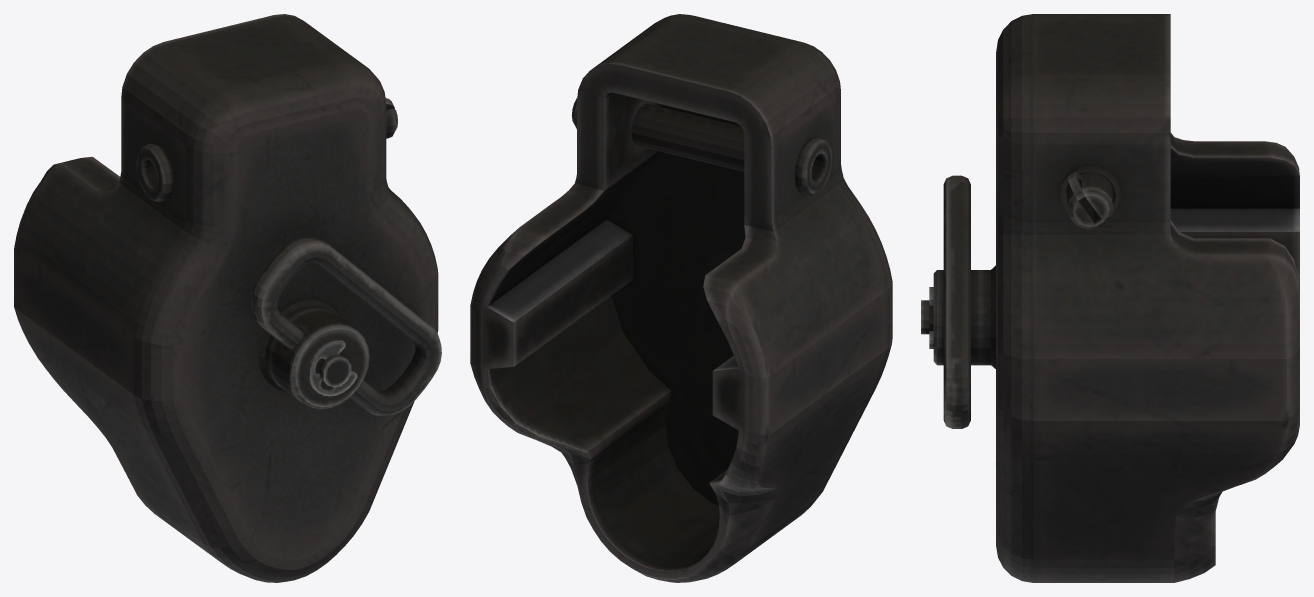
3 views of the same model, side by side, from view 1: azimuth 30°, elevation 25°; view 2: azimuth 150°, elevation 25°; view 3: azimuth 270°, elevation 25° (orthographic). The views are drawn at different scales.
Visible parts, largest first — view 1: TW_5c07c9660db834001a66b588_PZ_Import; view 2: TW_5c07c9660db834001a66b588_PZ_Import; view 3: TW_5c07c9660db834001a66b588_PZ_Import.
Boxes of the visible parts, bbox=[...] form: TW_5c07c9660db834001a66b588_PZ_Import: bbox=[14, 14, 441, 582]; TW_5c07c9660db834001a66b588_PZ_Import: bbox=[470, 14, 892, 582]; TW_5c07c9660db834001a66b588_PZ_Import: bbox=[921, 14, 1299, 582].
Size of the model in its own units: 0.0261 by 0.0272 by 0.0419.
Materials: 1 (1 with a texture image).
